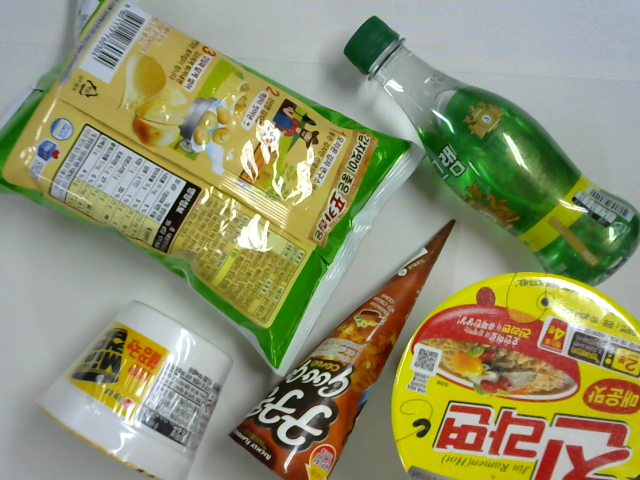GooGoo_Cone_CVS: (224, 219, 455, 480)
Hejangmini: (37, 300, 233, 480)
Jinlamyeon_Hot_Taste_Large_Cup: (387, 276, 640, 480)
Pocachip_Onion: (1, 1, 432, 381)
Seagram_Lemon_Carbonated_Water: (340, 14, 640, 293)
